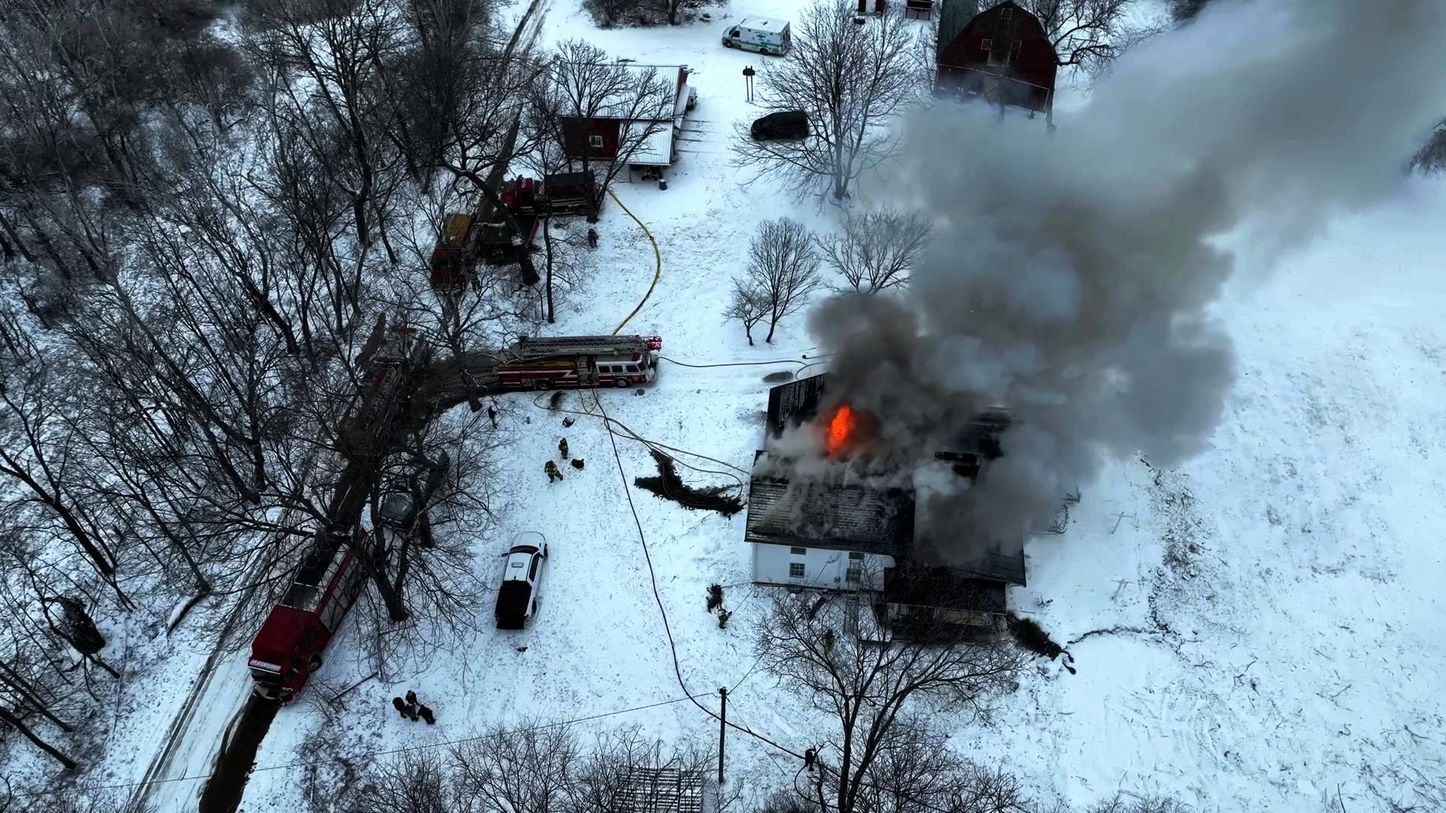fire: (805, 402, 868, 466)
smoke: (904, 239, 1102, 444)
